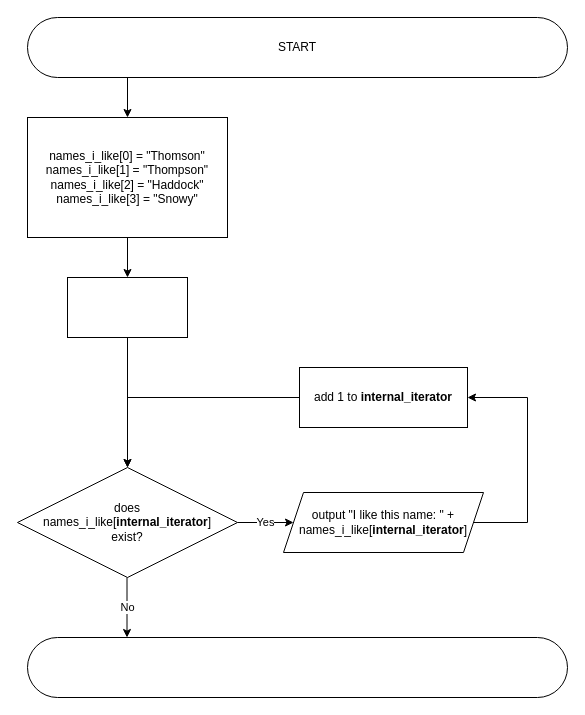
Image size: 585x715. Some labels were removed from this diagram. The shapes that lost their labels are listed below. From the top down, each one's centre as x and y in pixels, then its label:
At point 127,307: "internal_iterator = 0".
At point 297,667: "END".
